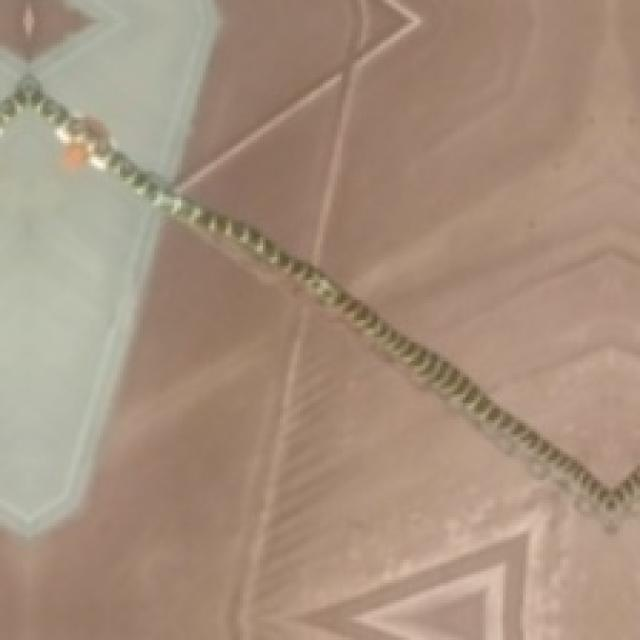mangrove cat snake: (0, 74, 637, 526)
